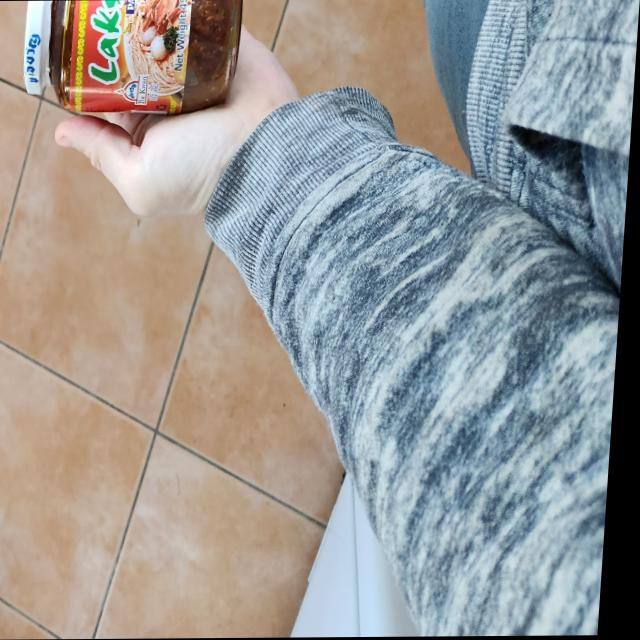laksa paste: (19, 0, 243, 114)
